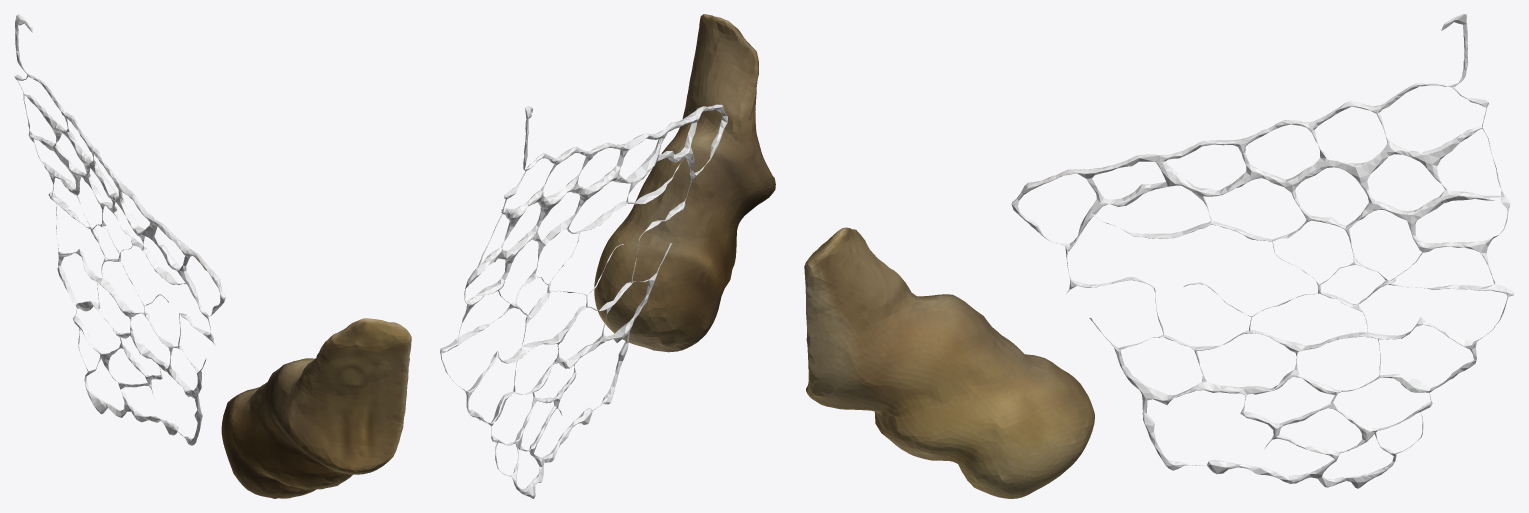
Rendered from IMG_SEG_36.glb.
The picture shows the model from 3 angles, left to right: view 1: azimuth 30°, elevation 25°; view 2: azimuth 150°, elevation 25°; view 3: azimuth 270°, elevation 25°; orthographic projection. The views are drawn at different scales.
Size of the model in its own units: 0.256 by 0.7258 by 1.03.
Materials: 1 (1 with a texture image).
